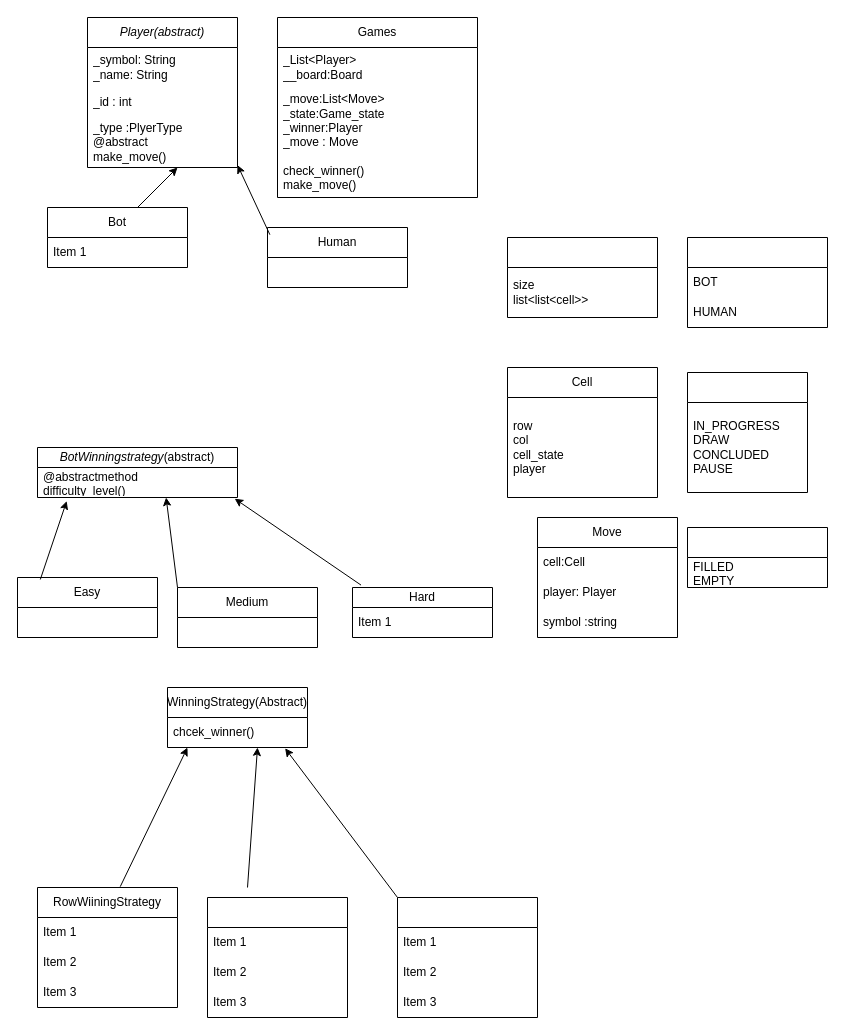
Image size: 845x1035. Some labels were removed from this diagram. The shapes that lost their labels are listed below. From the top down, each one's box as (x1, y1, x2, y2) in pixels, then its label:
(506, 236, 658, 318): Board
(686, 236, 828, 328): PlayerType(Enum)
(686, 372, 808, 492): GameState(Enum)
(686, 526, 828, 588): CellState(ENUM)
(206, 896, 348, 1018): ColWinningStrategy
(396, 896, 538, 1018): DiagonalWinningStrategy
